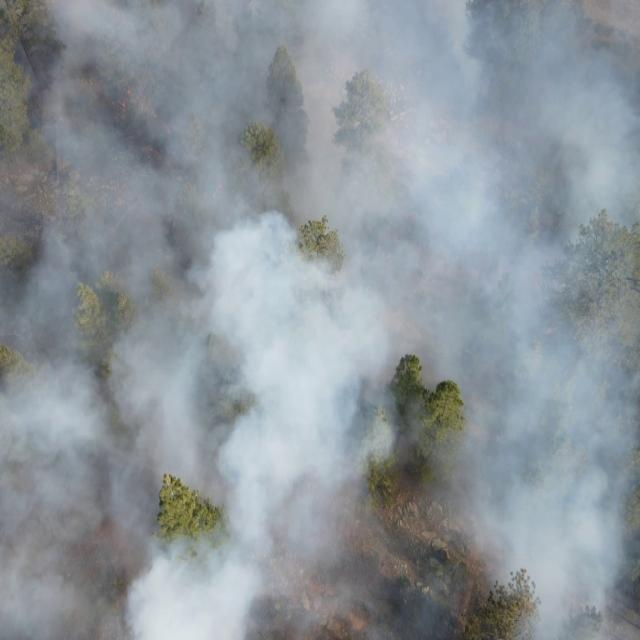fire: (112, 84, 170, 136)
smoke: (0, 0, 640, 640)
